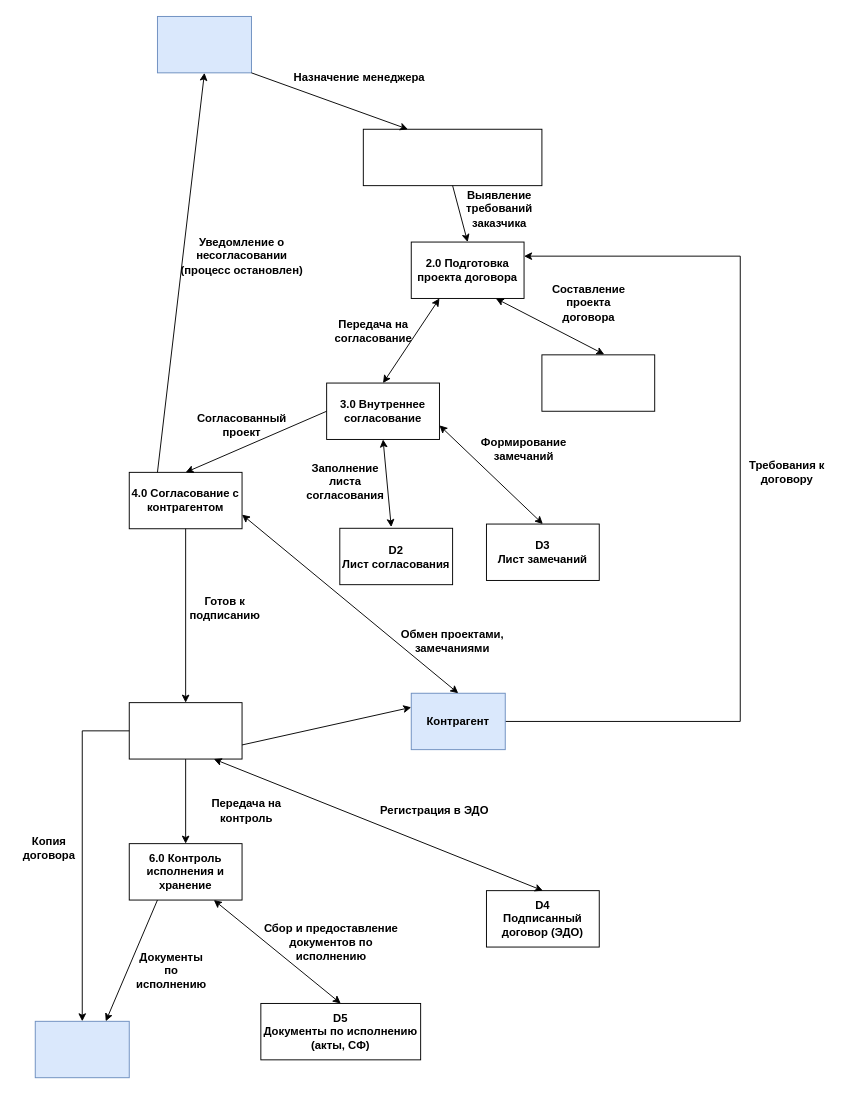
The diagram is 850 pixels wide and 1094 high, and some of its shapes have lost their labels. The shapes that lost their labels are listed below. From the top down, each one's box as (x1, y1, x2, y2) in pixels, then its label:
(157, 16, 251, 73): Руководитель отдела продаж
(362, 128, 542, 186): 1.0 Инициирование и назначение менеджера
(541, 354, 655, 411): D1 Проект договора
(128, 702, 242, 759): 5.0 Подписание и регистрация
(34, 1020, 129, 1078): Главный бухгалтер
